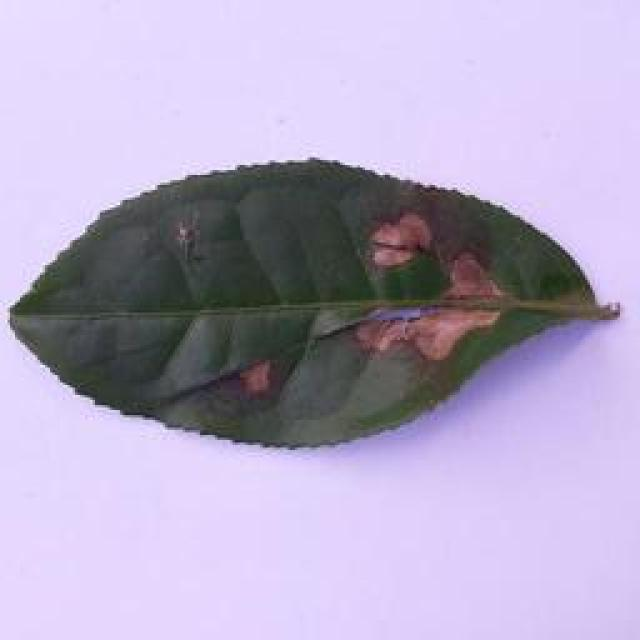Gray Blight: (11, 158, 620, 452)
